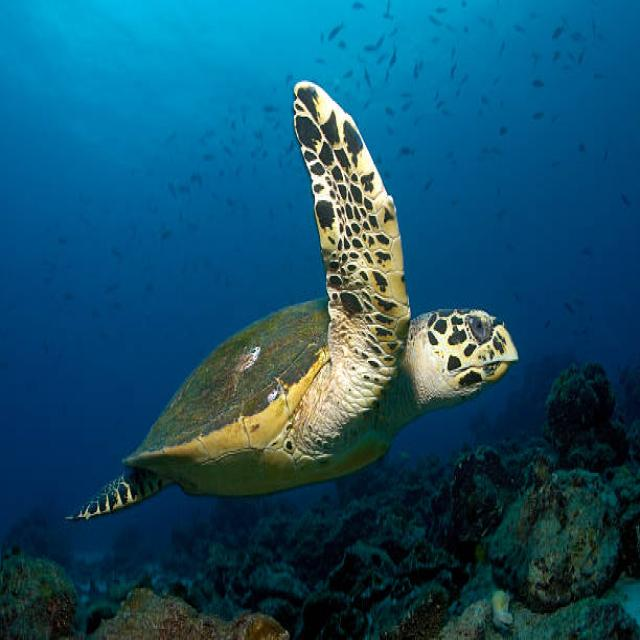sea turtle: (53, 282, 437, 525), (281, 64, 426, 331), (400, 294, 522, 422)
